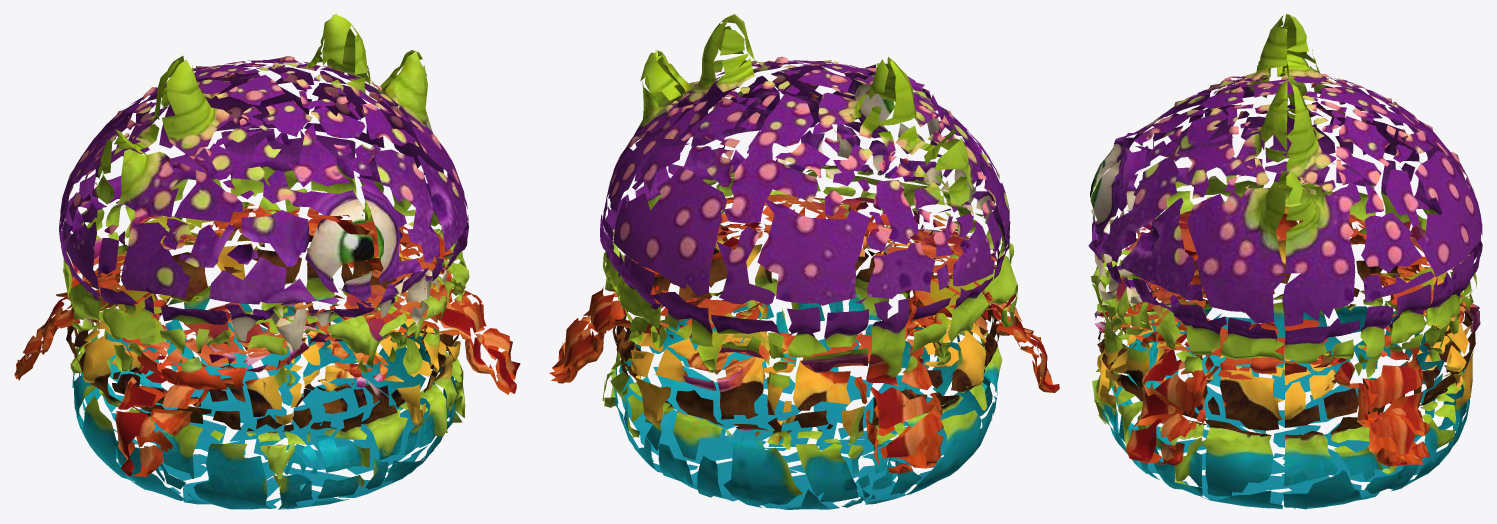
File: burger.glb
The picture shows the model from 3 angles, left to right: view 1: azimuth 30°, elevation 25°; view 2: azimuth 150°, elevation 25°; view 3: azimuth 270°, elevation 25°; orthographic projection. The views are drawn at different scales.
Parts seen in each view (by area): view 1: mesh_node; view 2: mesh_node; view 3: mesh_node.
Boxes of the visible parts, x1,y1,x2,y2 form: mesh_node: (14, 14, 520, 509); mesh_node: (549, 14, 1059, 509); mesh_node: (1088, 14, 1482, 509).
Size of the model in its own units: 1.85 by 1.9 by 1.66.
1 material, 1 textured.
